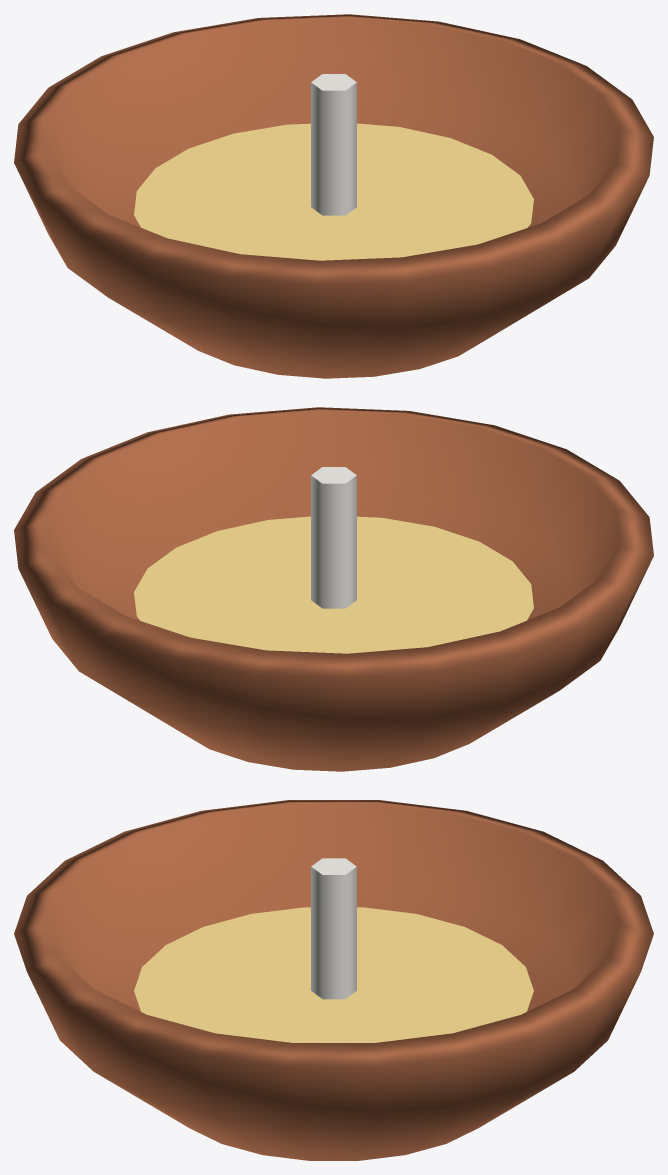
Rendered from diya.glb.
3 renders of one model, top to bottom at view 1: azimuth 30°, elevation 25°; view 2: azimuth 150°, elevation 25°; view 3: azimuth 270°, elevation 25°, orthographic.
Visible parts, largest first — view 1: diya; view 2: diya; view 3: diya.
Part boxes in pixels (left/top/right/bottom): diya: left=14, top=14, right=653, bottom=378; diya: left=14, top=407, right=653, bottom=771; diya: left=14, top=800, right=653, bottom=1160.
Bounding box in the file's own units: 0.1109 × 0.045 × 0.112.
